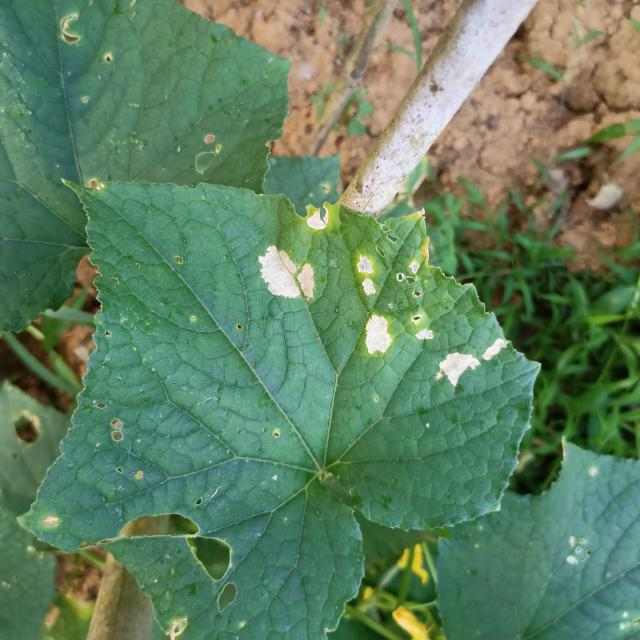disease_cucumber: (341, 248, 436, 364), (436, 337, 518, 393), (254, 240, 320, 306), (301, 201, 340, 234)
